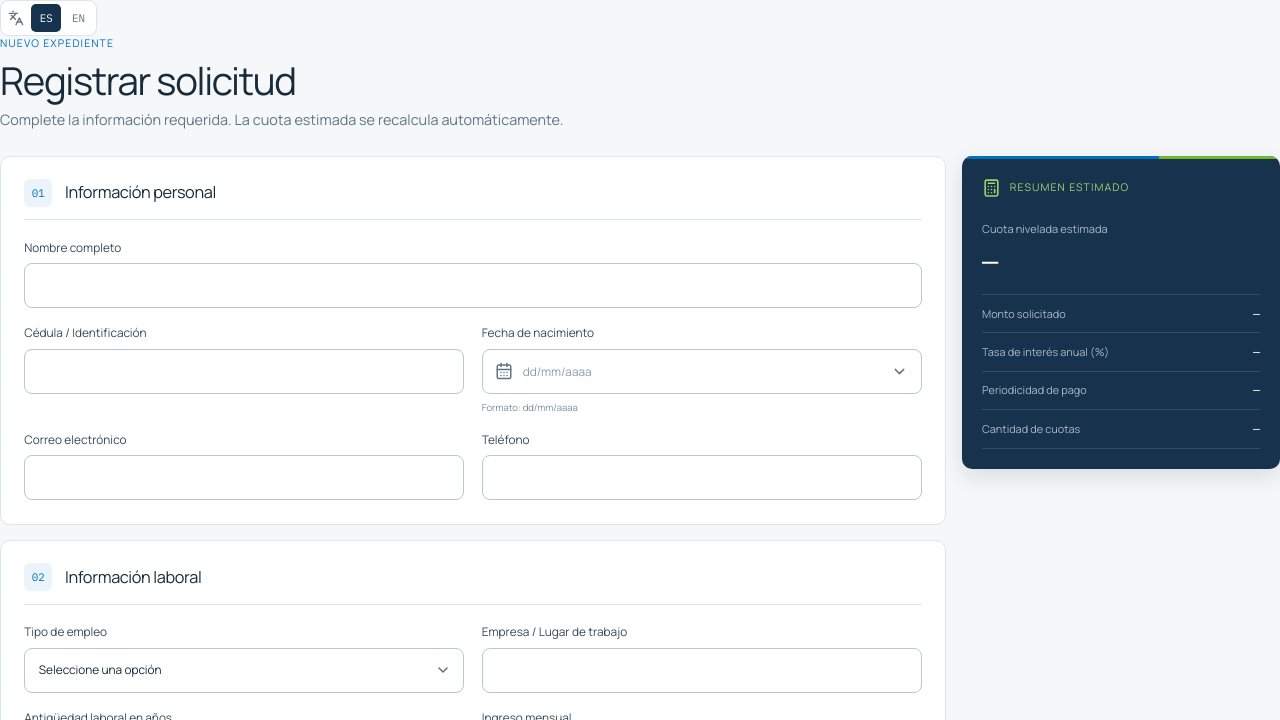
Test case: new application date picker › disables dates before the 80-year boundary and prevents navigating to earlier months
Click the button named "Abrir calendario" at [899, 371], box [880,352,919,391]
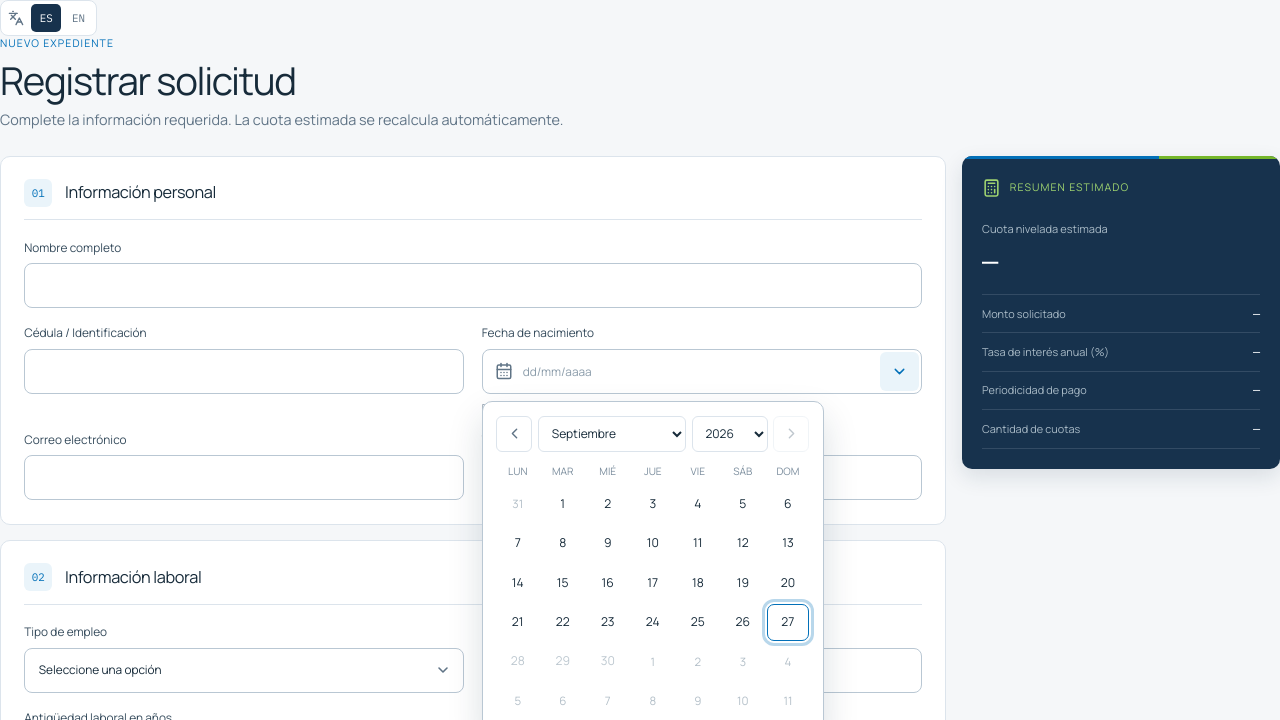
Select "1946" in the dropdown named "Año" at [730, 434], box [692,416,768,452]
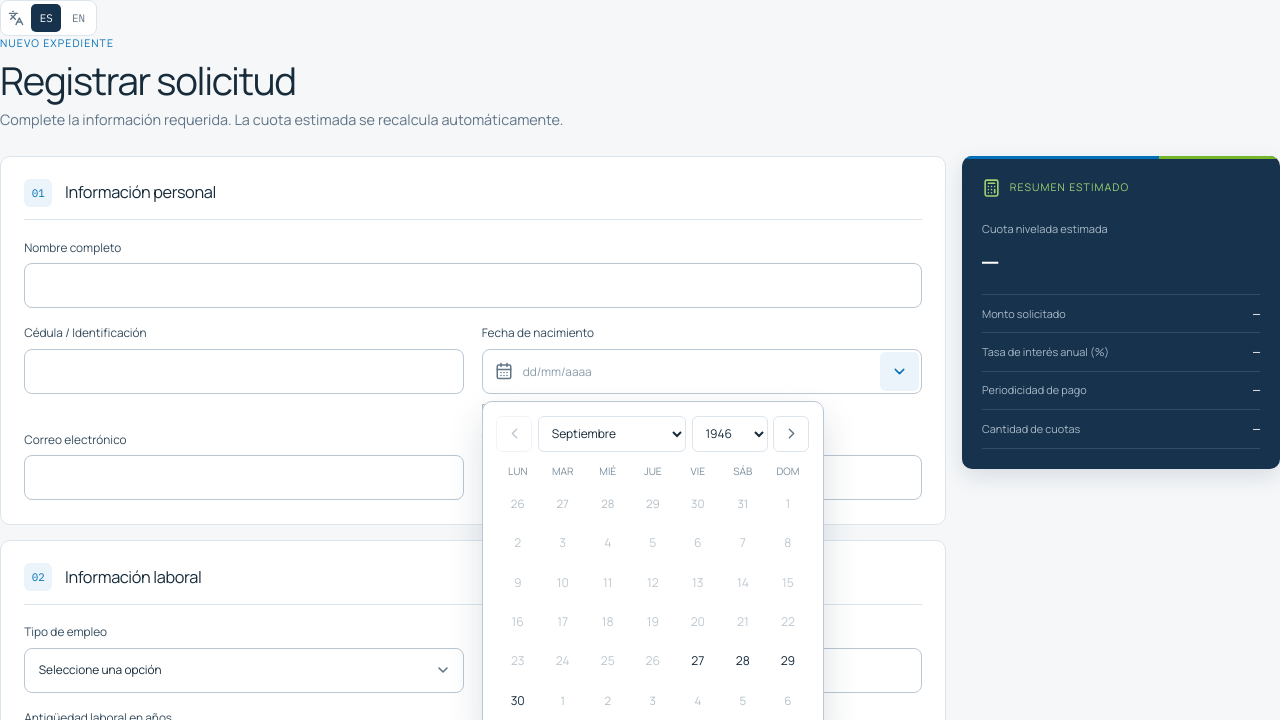
Expected: the button named "Mes anterior" is disabled, [496,416,532,452]
Result: the button named "27 de septiembre de 1946" is enabled at [676,643,719,680]
Result: the button named "26 de septiembre de 1946" is disabled at [632,643,674,680]
